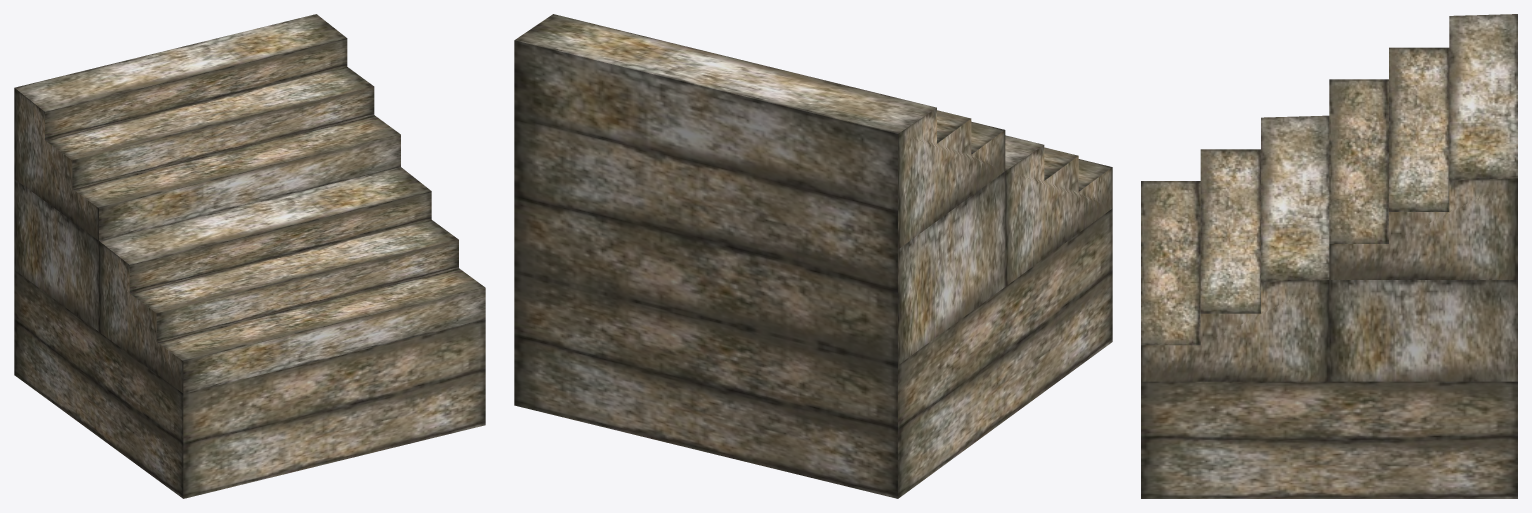
Rendered from stone_stairs_double.fbx.
3 renders of one model, left to right at view 1: azimuth 30°, elevation 25°; view 2: azimuth 150°, elevation 25°; view 3: azimuth 270°, elevation 25°, orthographic. The views are drawn at different scales.
Visible parts, largest first — view 1: brick_stairs1, nurbsToPoly3; view 2: polySurface5, nurbsToPoly3, brick_stairs1; view 3: brick_stairs1, nurbsToPoly3.
Part boxes in pixels (x1,y1,x2,y2): brick_stairs1: (14, 14, 485, 393); nurbsToPoly3: (14, 270, 485, 498); polySurface5: (514, 40, 897, 365); nurbsToPoly3: (514, 208, 1112, 498); brick_stairs1: (515, 14, 1112, 364); brick_stairs1: (1141, 14, 1517, 381); nurbsToPoly3: (1141, 381, 1517, 498).
Size of the model in its own units: 1150 by 1046 by 1114.
1 material, 1 textured.
